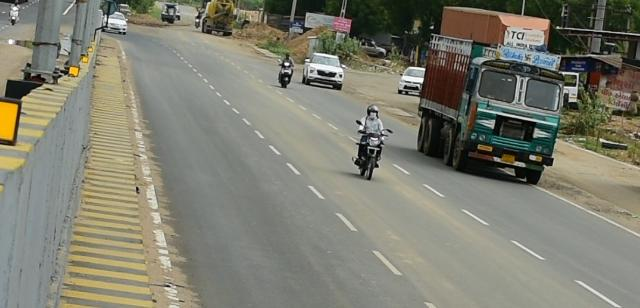With Helmet: (367, 105, 379, 119)
Without Helmet: (286, 52, 290, 58)
